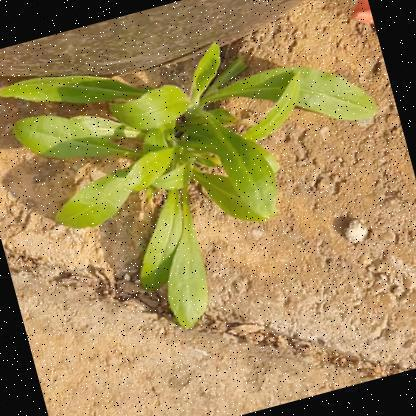Weeds: (0, 0, 415, 360)
